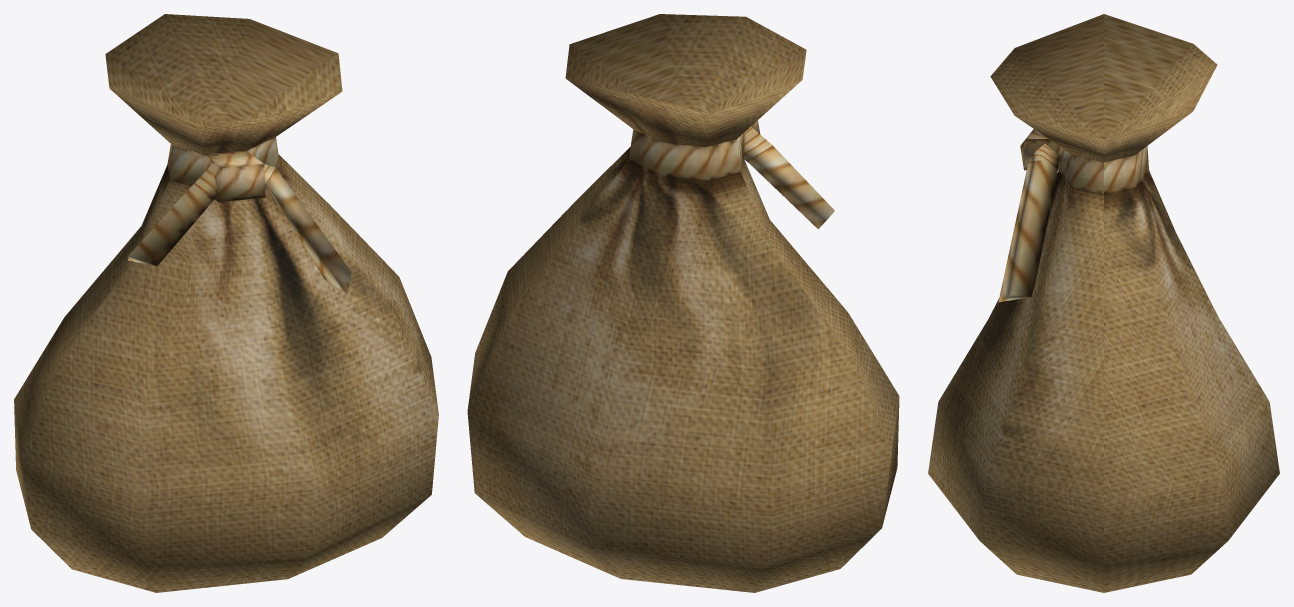
The model's file is item_bag.fbx.
The picture shows the model from 3 angles, left to right: view 1: azimuth 30°, elevation 25°; view 2: azimuth 150°, elevation 25°; view 3: azimuth 270°, elevation 25°; orthographic projection. The views are drawn at different scales.
Parts seen in each view (by area): view 1: item_bag; view 2: item_bag; view 3: item_bag.
Boxes of the visible parts, x1,y1,x2,y2 form: item_bag: (14, 14, 438, 592); item_bag: (467, 14, 899, 592); item_bag: (928, 14, 1279, 592).
Bounding box in the file's own units: 27.53 × 31.2 × 21.3.
